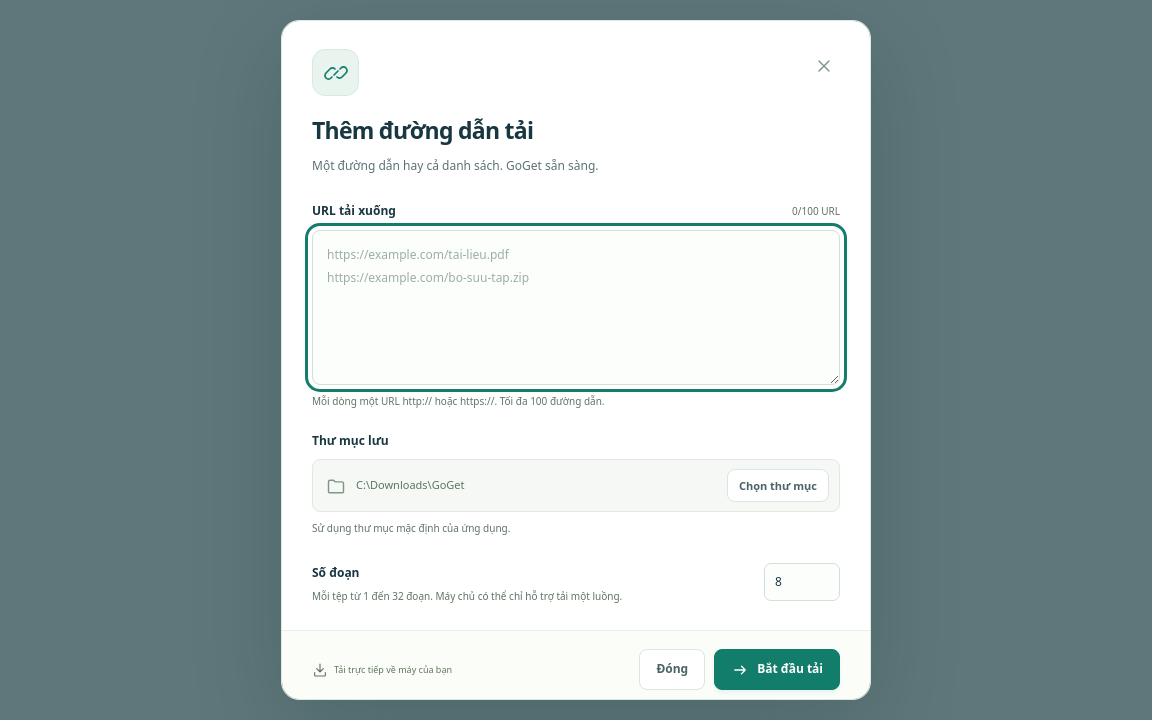
Add URLs dialog › rejects invalid segment count  before calling the backend
Replace the text in the text box labelled "URL tải xuống" with "https://example.com/a". click: point(576, 308)
box: [312, 230, 840, 385]
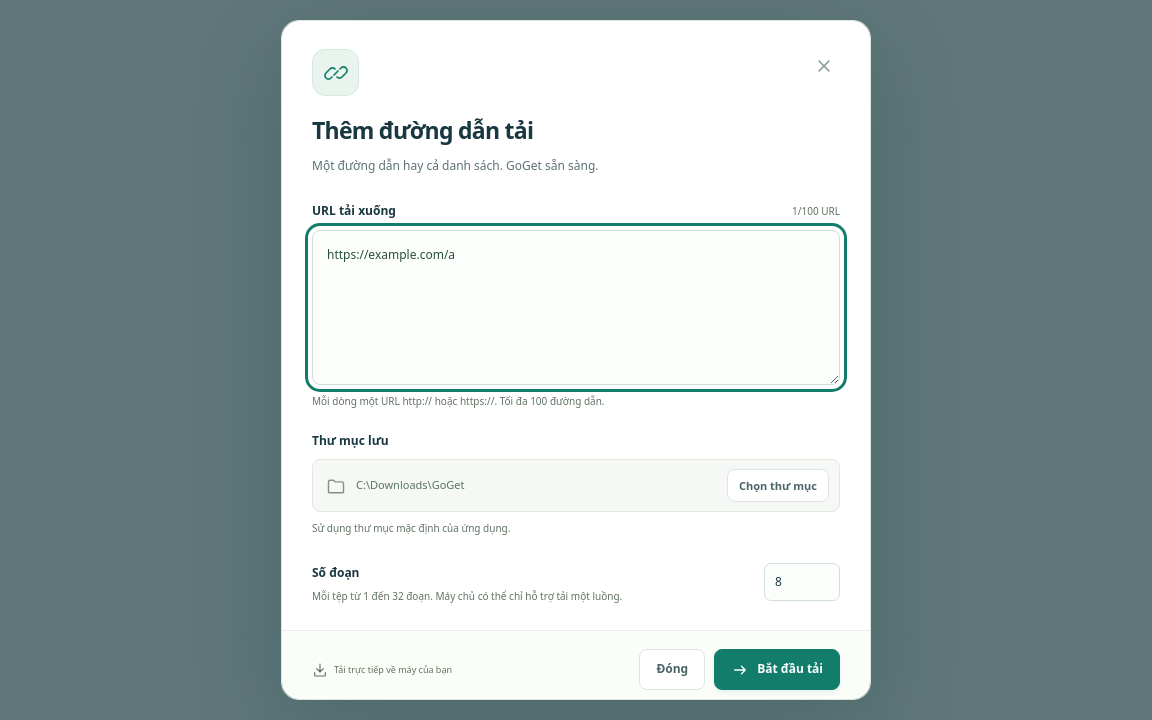
Clear the number field labelled "Số đoạn". click: point(802, 582)
box: [764, 563, 840, 601]
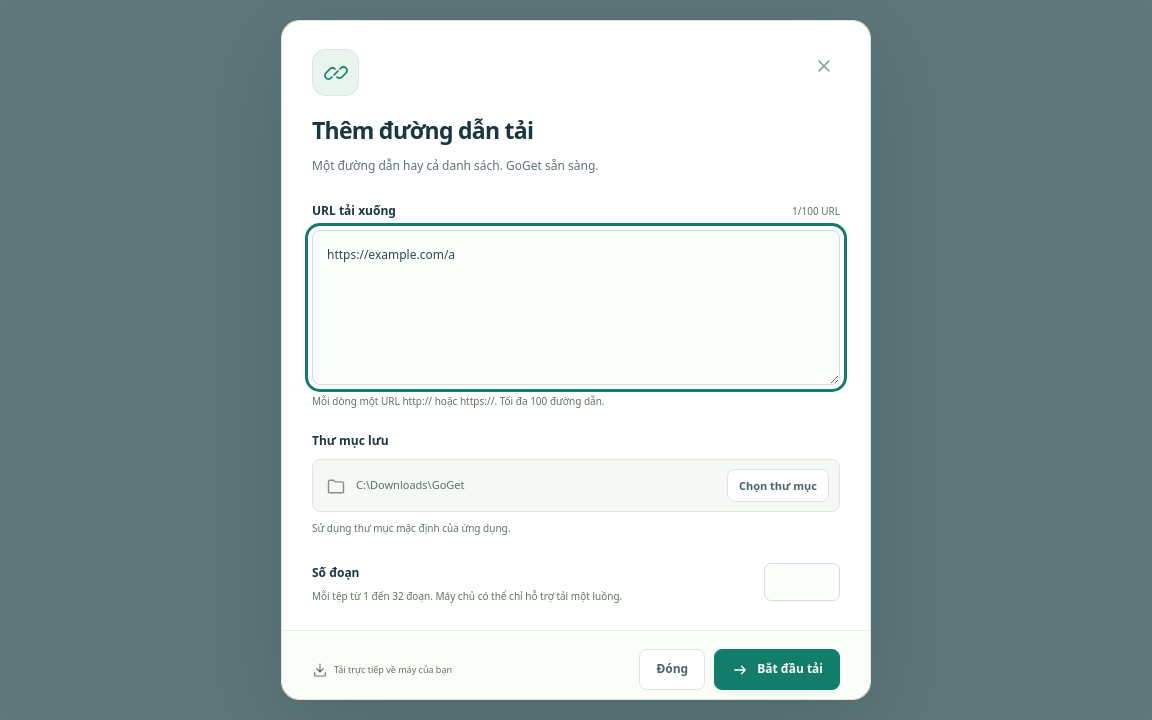
Click the button "Bắt đầu tải". click: point(777, 670)
box: [714, 649, 840, 690]
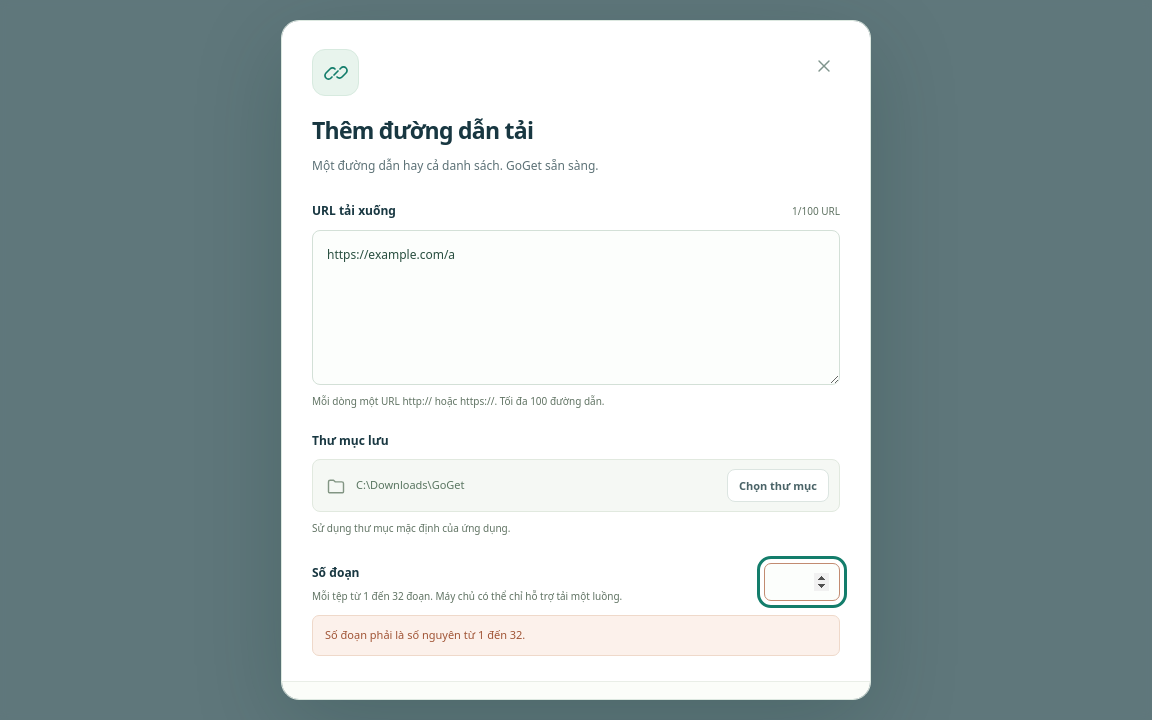
Now the message shows "Số đoạn phải là số nguyên từ 1 đến 32", box [325, 627, 525, 642]
